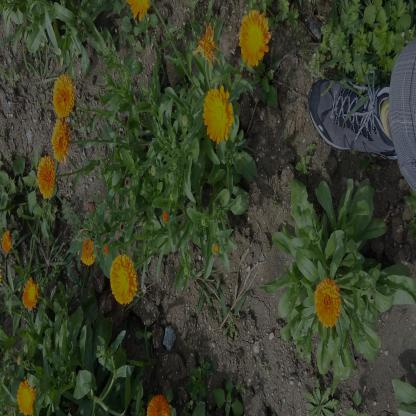marigold: (204, 90, 233, 141), (240, 13, 269, 64), (110, 258, 138, 304), (316, 279, 341, 328), (53, 75, 73, 115), (77, 227, 95, 266), (37, 156, 54, 194), (52, 120, 67, 163), (18, 381, 36, 415), (23, 280, 38, 310)
